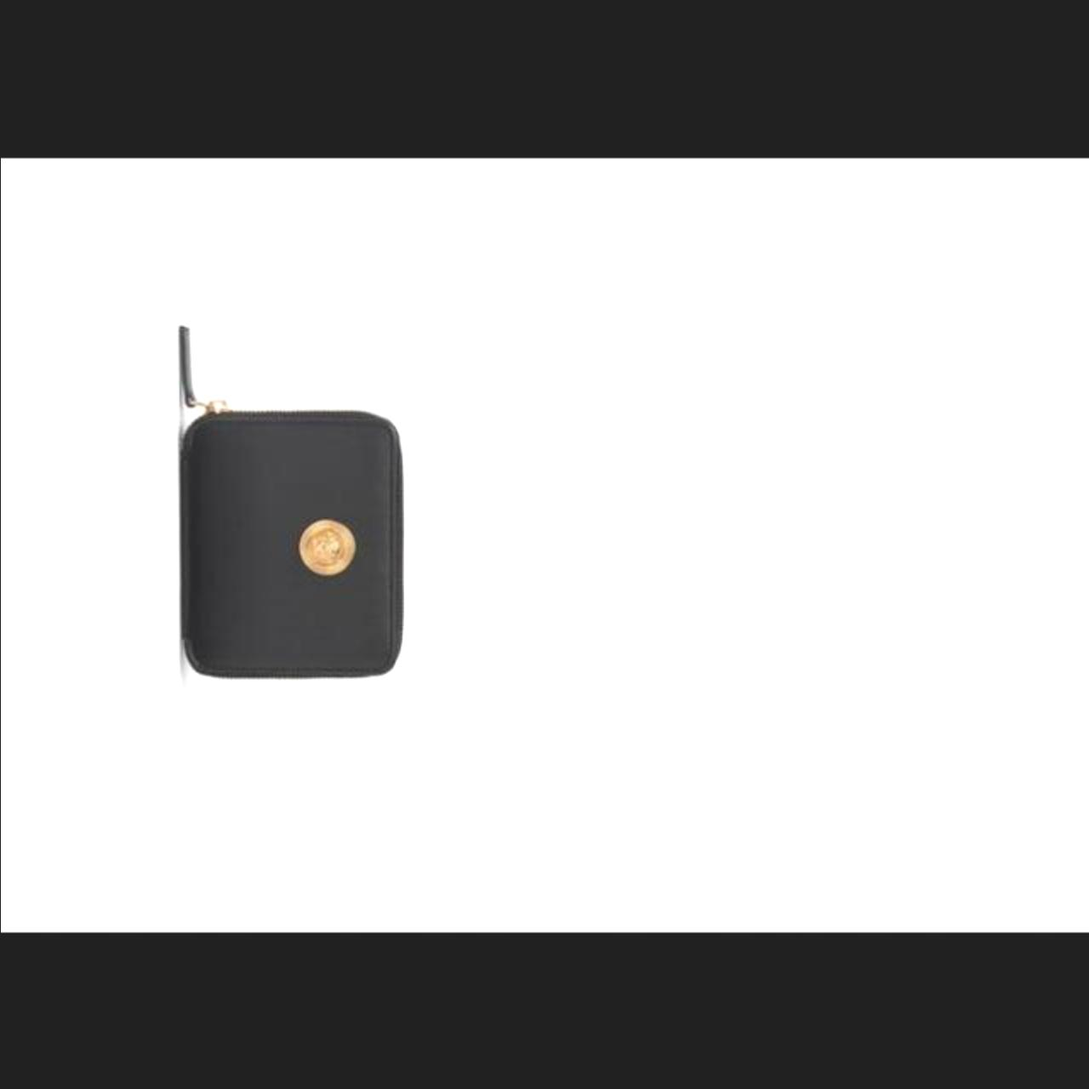wallet: (145, 326, 425, 709)
